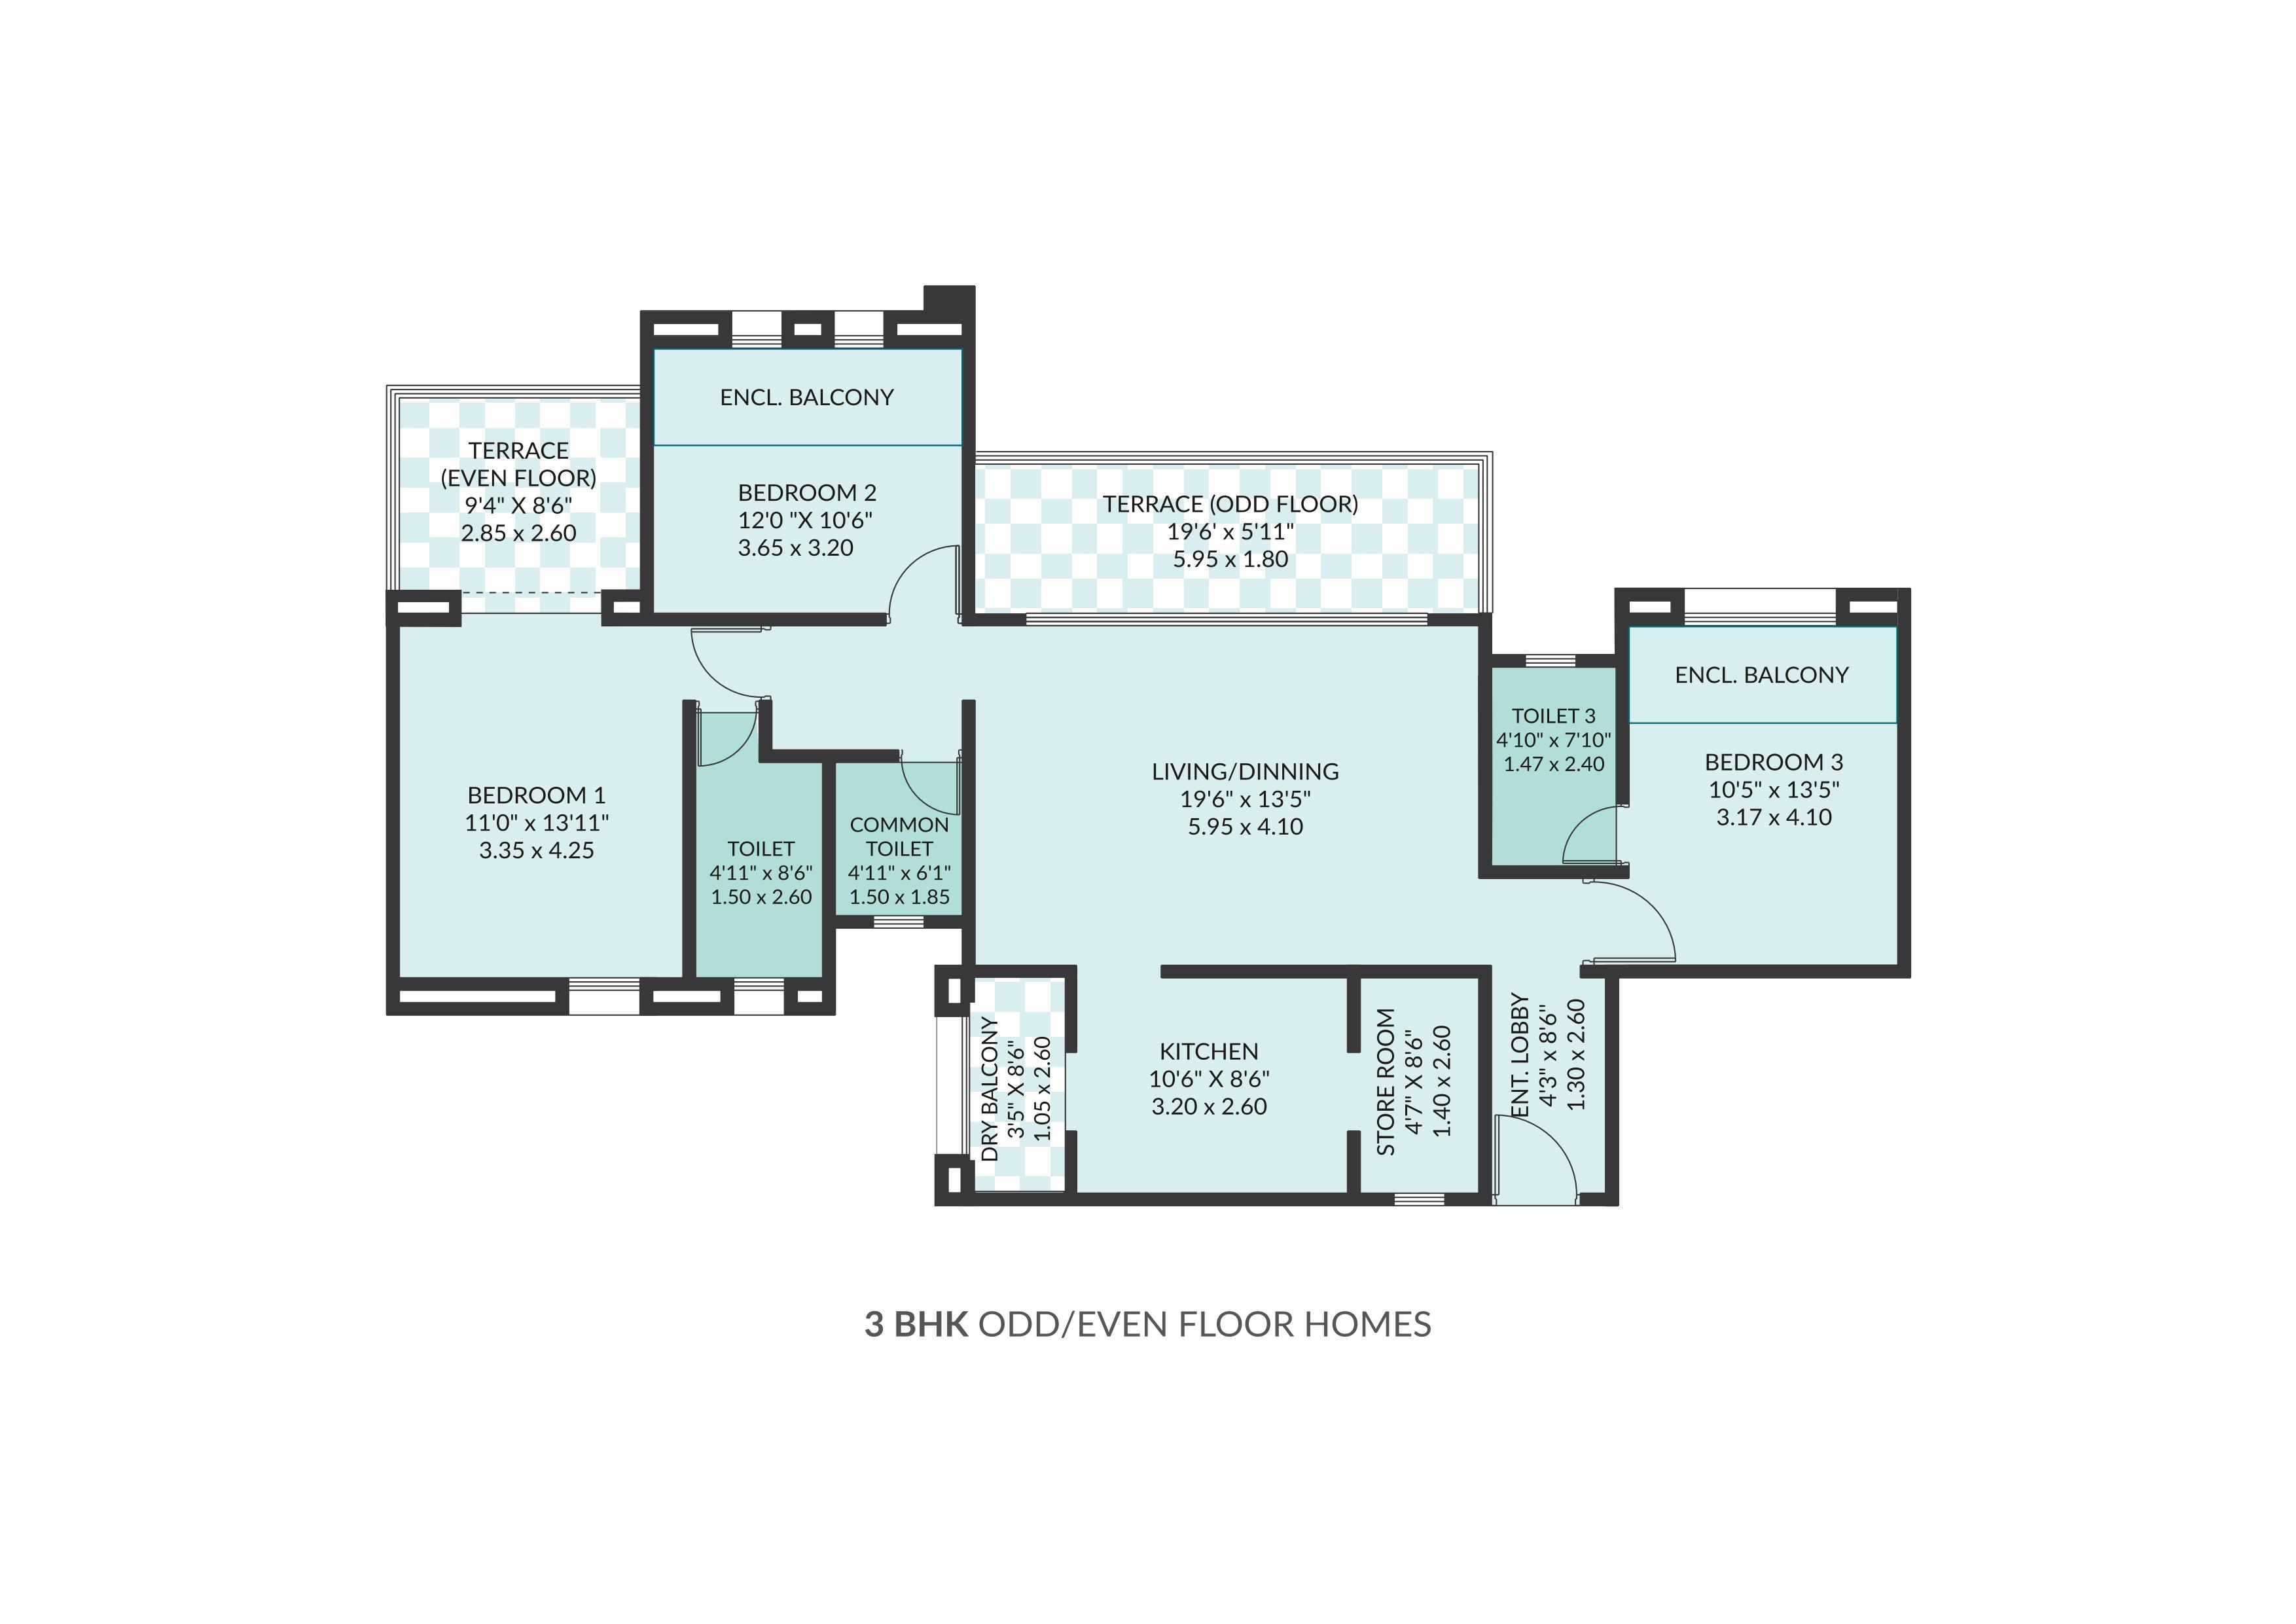door: (1595, 882, 1681, 965), (1491, 1113, 1578, 1195), (685, 626, 757, 700), (885, 541, 961, 612), (1553, 801, 1613, 865), (697, 714, 757, 770), (899, 763, 961, 817)
